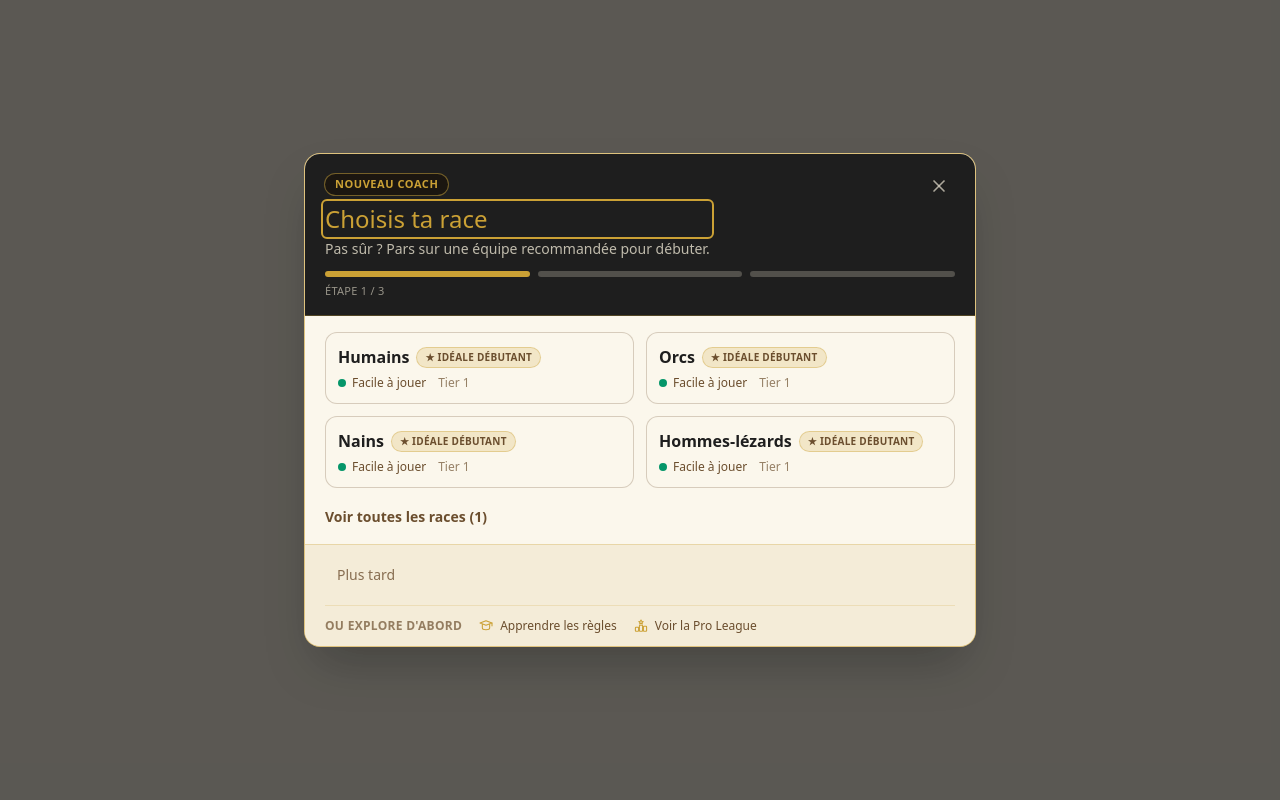
FirstTeamWizard › dévoile toutes les races via le toggle
Expected: the button with test id "onboarding-race-human" is shown, left=325, top=332, right=634, bottom=404
Step 1. Click the button with test id "onboarding-toggle-all" → (406, 517), box left=325, top=507, right=487, bottom=527
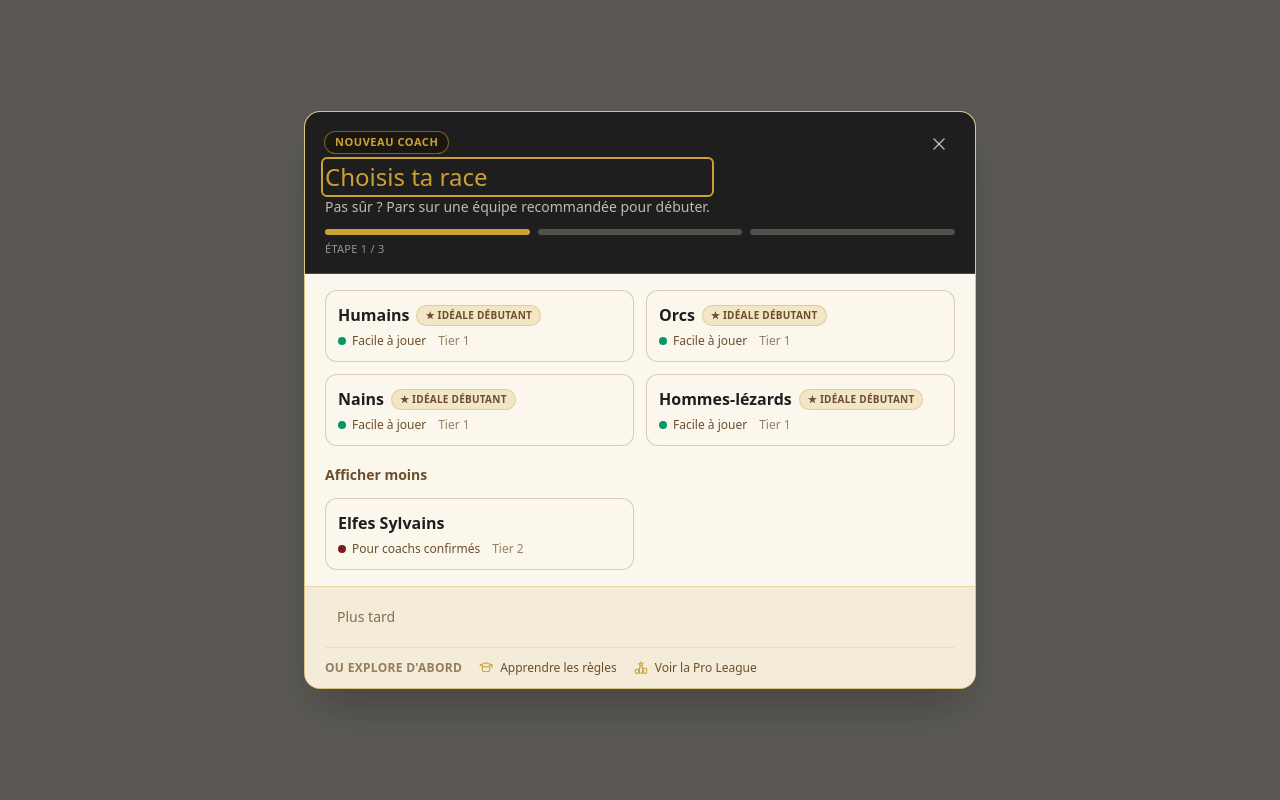
Now the button with test id "onboarding-race-wood_elf" is shown, box left=325, top=498, right=634, bottom=570
